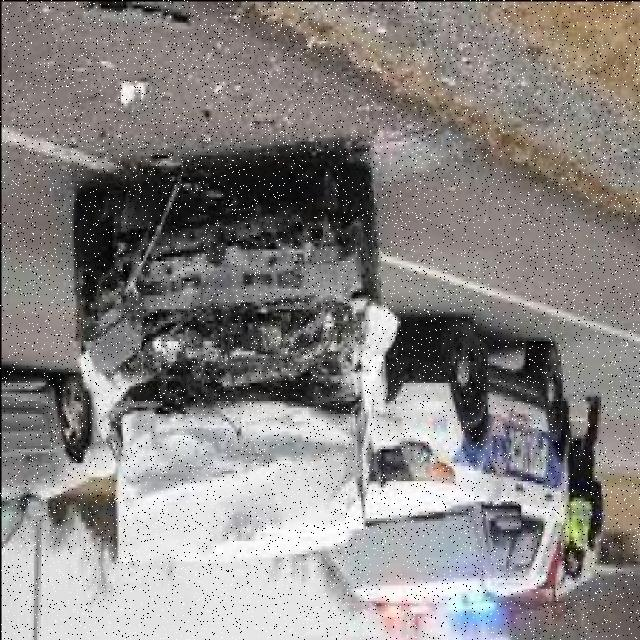damage: (80, 210, 376, 555)
